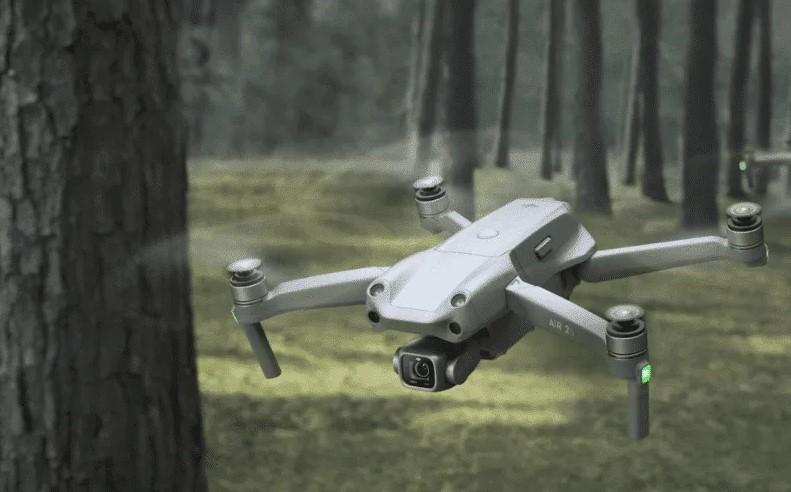drone: (113, 124, 789, 441)
